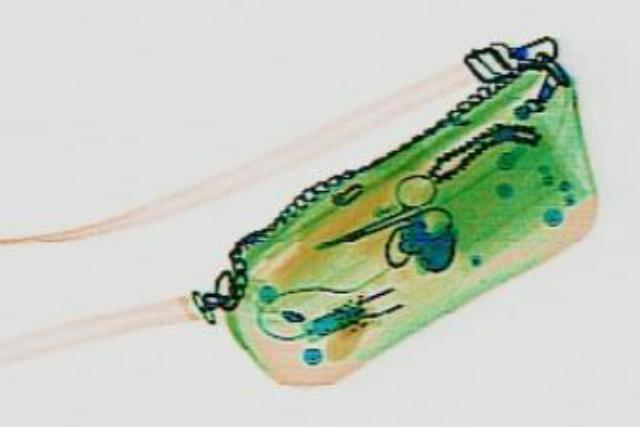Scissors: (286, 168, 474, 271)
